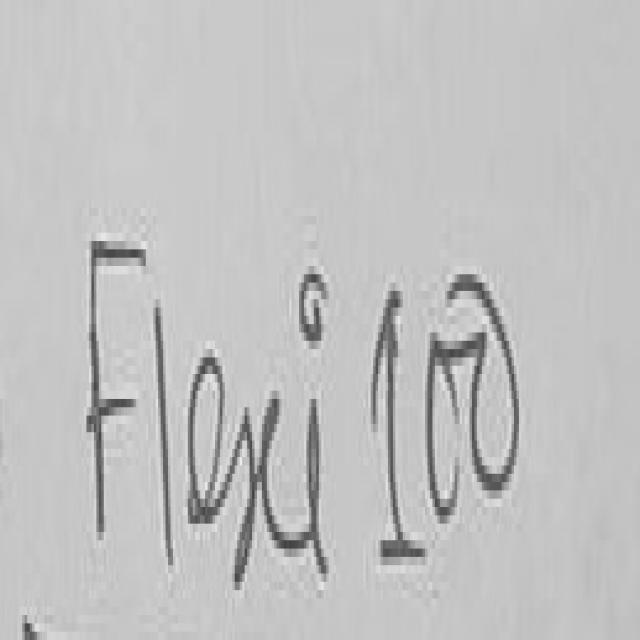0: (474, 314, 521, 495), (430, 345, 462, 519)
1: (373, 291, 427, 553)
F: (91, 245, 145, 536)
e: (188, 357, 245, 519)
i: (303, 399, 329, 569), (301, 274, 329, 345)
l: (157, 308, 173, 561)
x: (235, 399, 306, 586)
